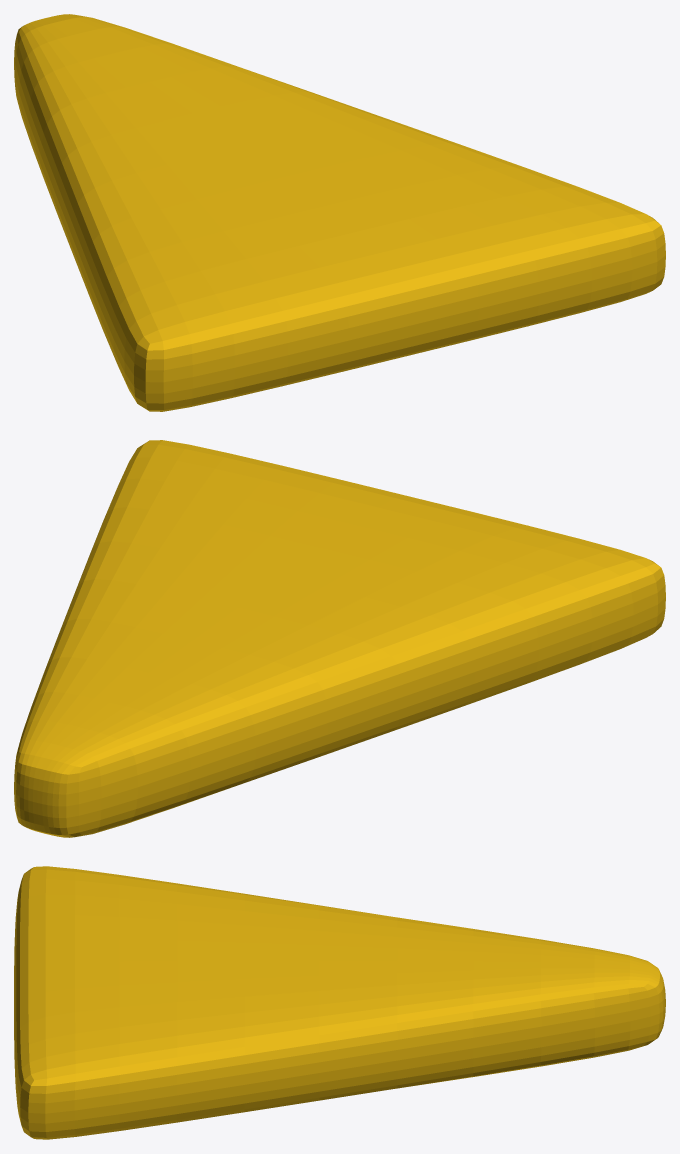
The model's file is arrow.glb.
The picture shows the model from 3 angles, top to bottom: view 1: azimuth 30°, elevation 25°; view 2: azimuth 150°, elevation 25°; view 3: azimuth 270°, elevation 25°; orthographic projection. The views are drawn at different scales.
Visible parts, largest first — view 1: Arrow; view 2: Arrow; view 3: Arrow.
Part boxes in pixels (<box>): Arrow: <box>14,14,665,411</box>; Arrow: <box>14,440,665,837</box>; Arrow: <box>14,866,665,1139</box>.
Size of the model in its own units: 0.5613 by 0.1 by 0.6983.
